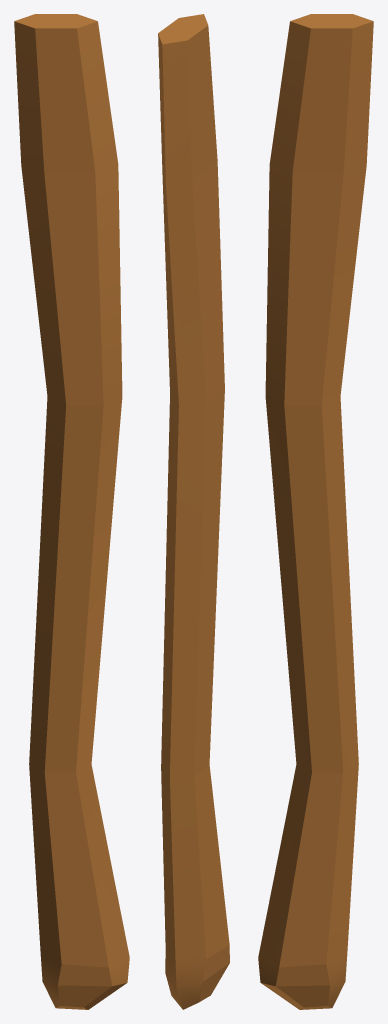
Rendered from Axe_Lumber_Handle.glb.
3 views of the same model, side by side, from view 1: azimuth 90°, elevation 25°; view 2: azimuth 150°, elevation 25°; view 3: azimuth 270°, elevation 25° (orthographic).
Visible parts, largest first — view 1: Axe_Lumber_Handle; view 2: Axe_Lumber_Handle; view 3: Axe_Lumber_Handle.
Boxes of the visible parts, left/top/right/bottom form: Axe_Lumber_Handle: left=14, top=14, right=129, bottom=1009; Axe_Lumber_Handle: left=158, top=14, right=229, bottom=1009; Axe_Lumber_Handle: left=258, top=14, right=373, bottom=1009.
Size of the model in its own units: 0.0331 by 0.7658 by 0.0812.
